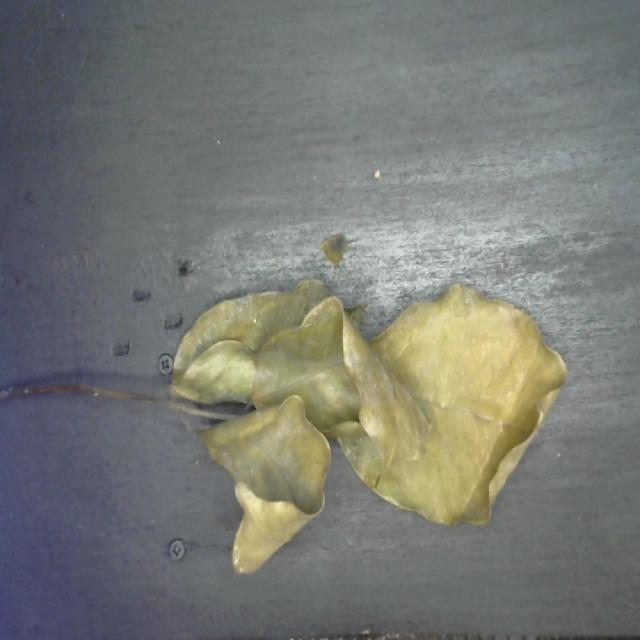biodegradable: (162, 261, 570, 586)
